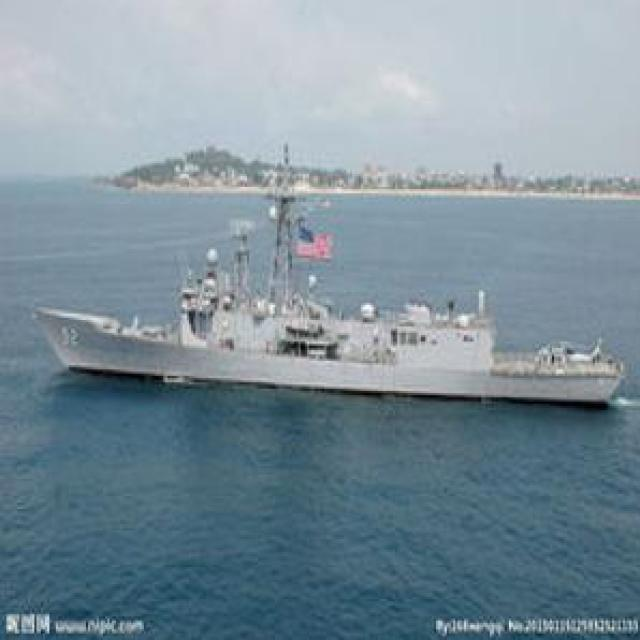navalvessels: (34, 171, 630, 411)
